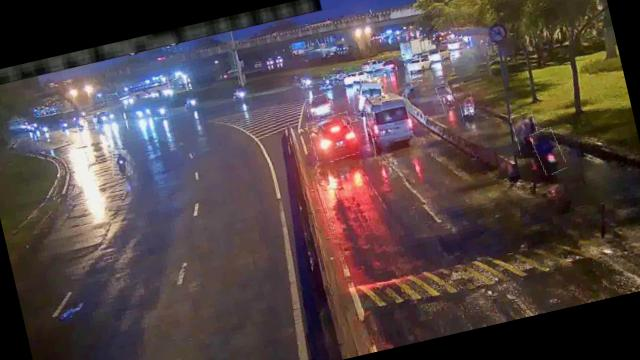Bike: (531, 127, 566, 177), (511, 112, 541, 156), (110, 150, 134, 180), (458, 92, 478, 122), (436, 84, 455, 112)
Bus: (364, 88, 421, 156), (349, 77, 386, 117)
Car: (306, 112, 359, 165), (304, 93, 335, 120)
